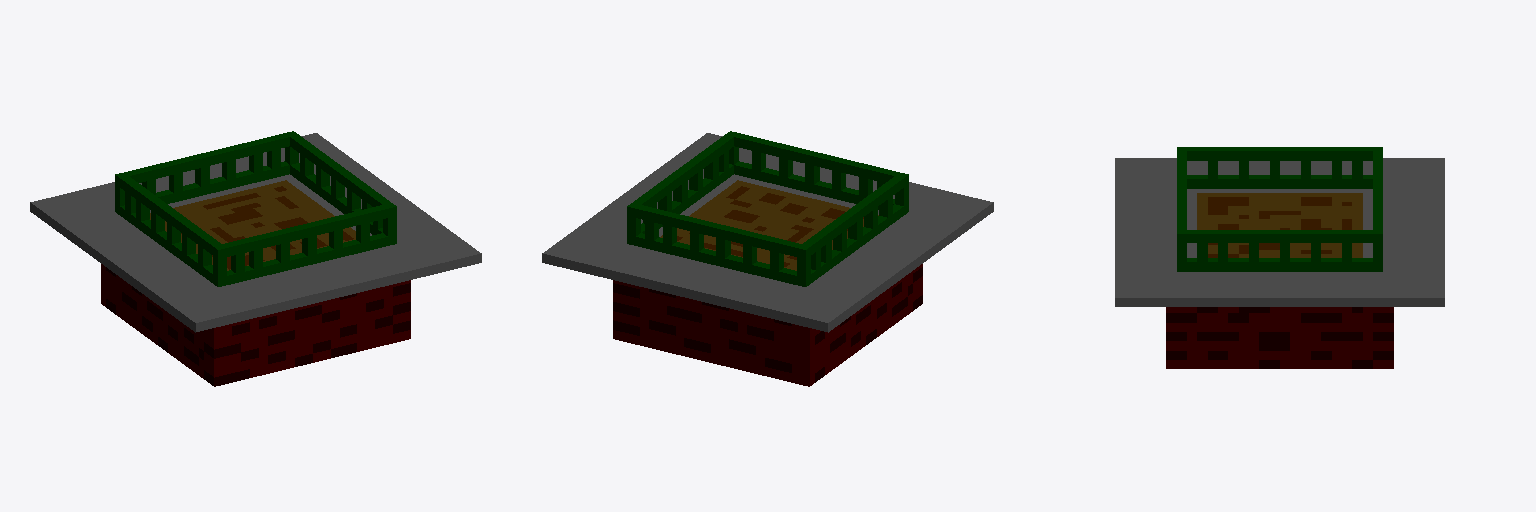
3 views of the same model, side by side, from view 1: azimuth 30°, elevation 25°; view 2: azimuth 150°, elevation 25°; view 3: azimuth 270°, elevation 25° (orthographic).
Parts seen in each view (by area): view 1: object 1; view 2: object 1; view 3: object 1.
Part boxes in pixels (bbox=[...]): object 1: bbox=[30, 131, 481, 386]; object 1: bbox=[542, 131, 993, 386]; object 1: bbox=[1115, 147, 1444, 368].
Bounding box in the file's own units: 3.2 × 1.4 × 3.2.
Materials: 1 (1 with a texture image).